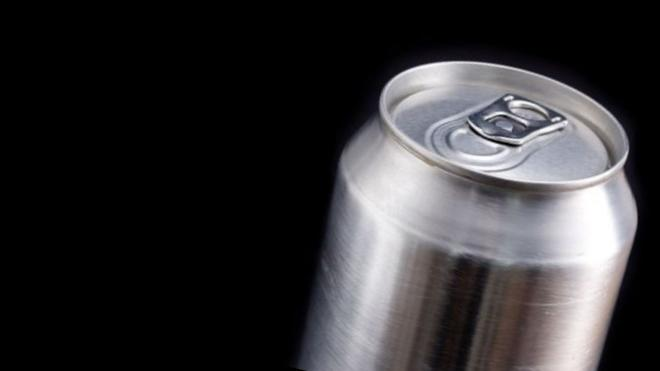metal: (254, 19, 660, 371)
